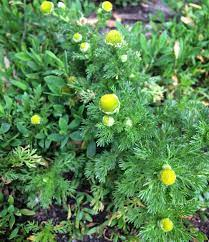pineple: (137, 117, 207, 192)
